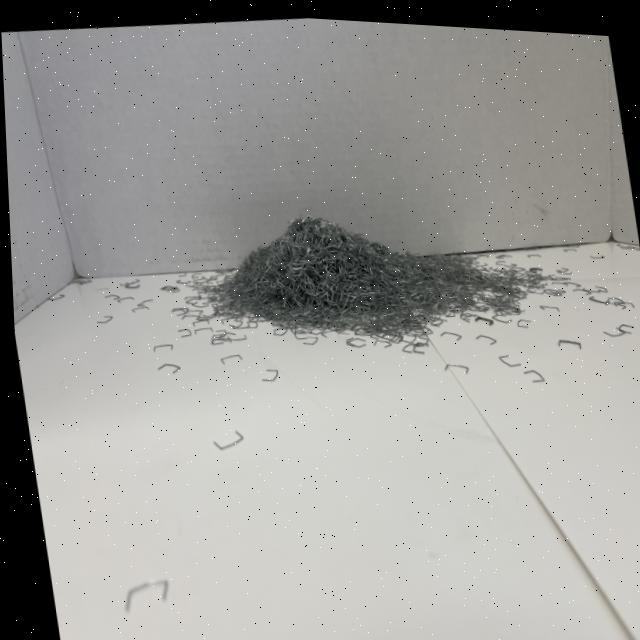staples: (194, 182, 547, 370)
